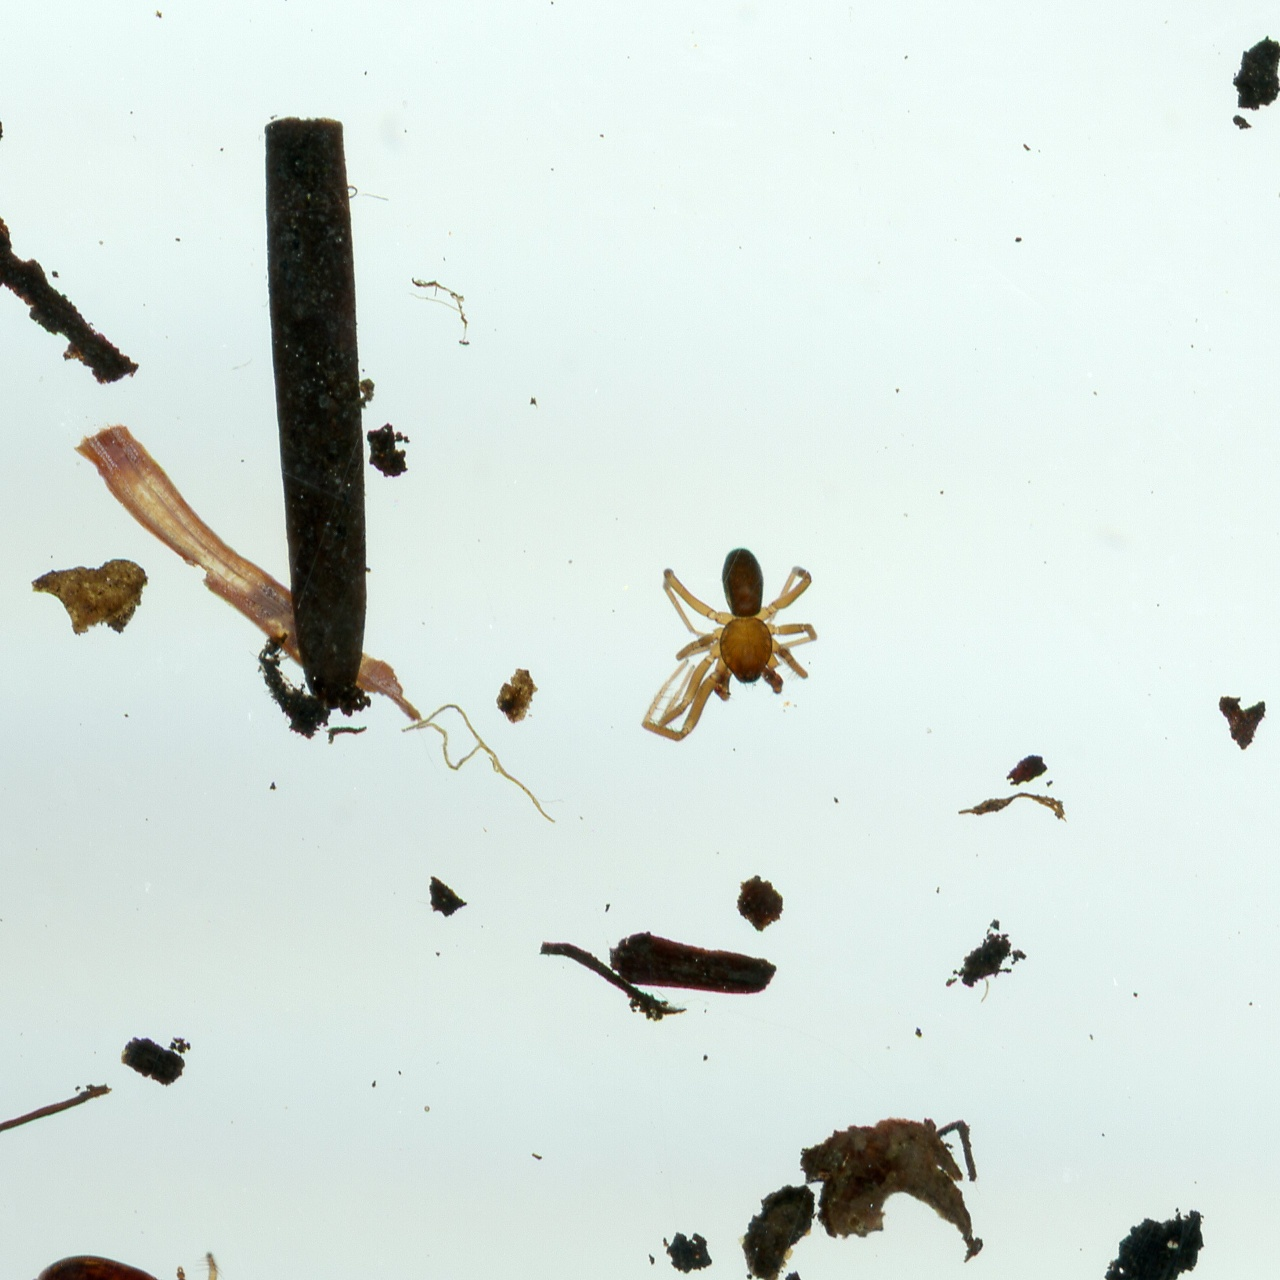arthropod: (640, 547, 819, 743), (80, 1242, 311, 1280), (15, 1252, 202, 1280)
